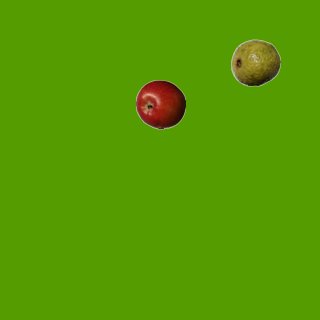Apple Braeburn: (135, 79, 185, 129)
Guava: (230, 37, 280, 87)
